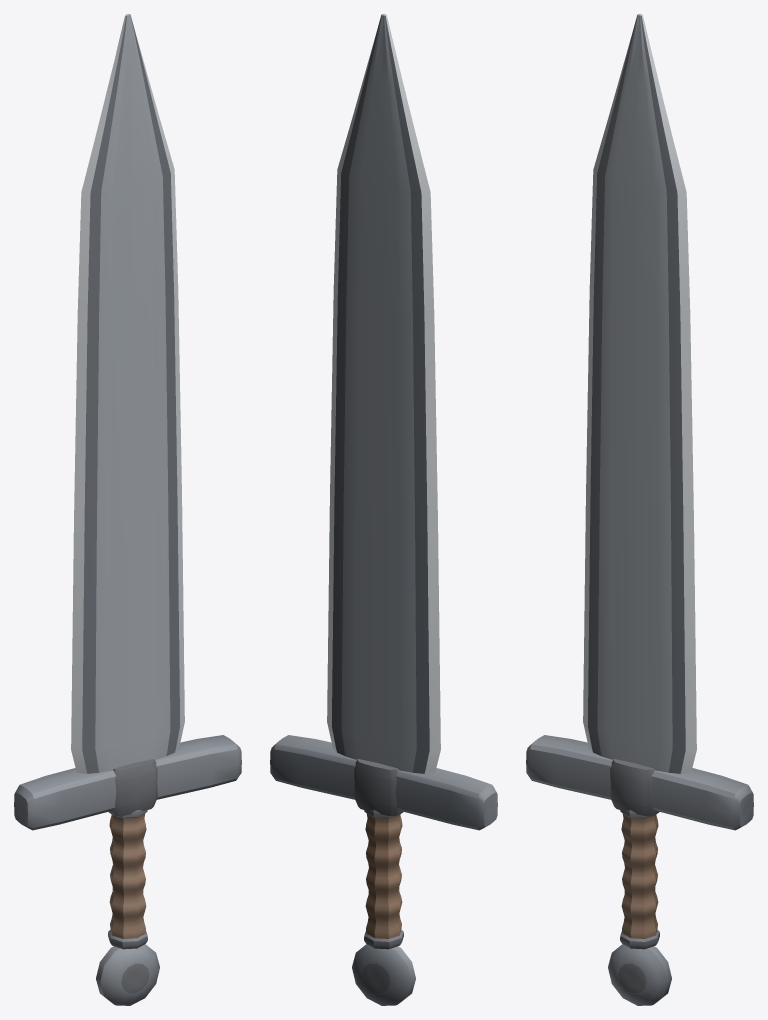
Rendered from WPN_01_Sword_T1_Common.fbx.
3 views of the same model, side by side, from view 1: azimuth 30°, elevation 25°; view 2: azimuth 150°, elevation 25°; view 3: azimuth 330°, elevation 25° (orthographic).
Parts seen in each view (by area): view 1: EXP_WPN_01_Sword_T1_Common; view 2: EXP_WPN_01_Sword_T1_Common; view 3: EXP_WPN_01_Sword_T1_Common.
Part boxes in pixels (x1,y1,x2,y2): EXP_WPN_01_Sword_T1_Common: (14, 14, 241, 1005); EXP_WPN_01_Sword_T1_Common: (270, 14, 497, 1005); EXP_WPN_01_Sword_T1_Common: (526, 14, 753, 1005).
Bounding box in the file's own units: 86 × 380 × 15.2.
1 material, 1 textured.
